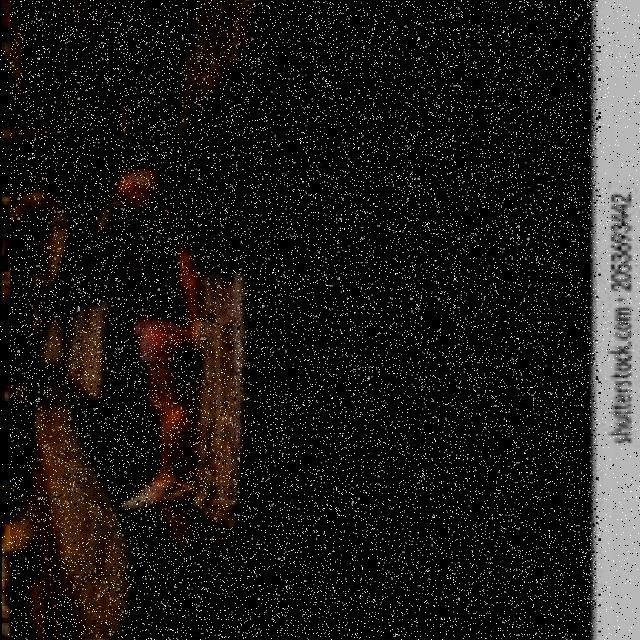rail: (12, 2, 598, 640)
